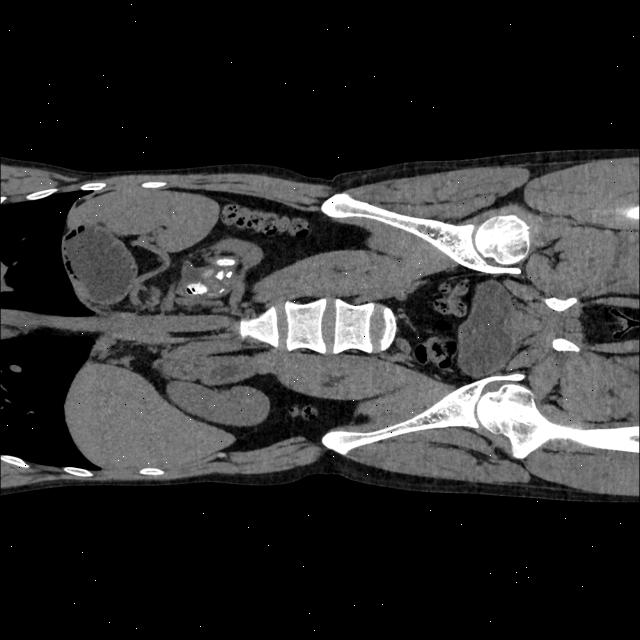kidneystone: (185, 281, 207, 294), (216, 258, 236, 265), (224, 270, 232, 278)
